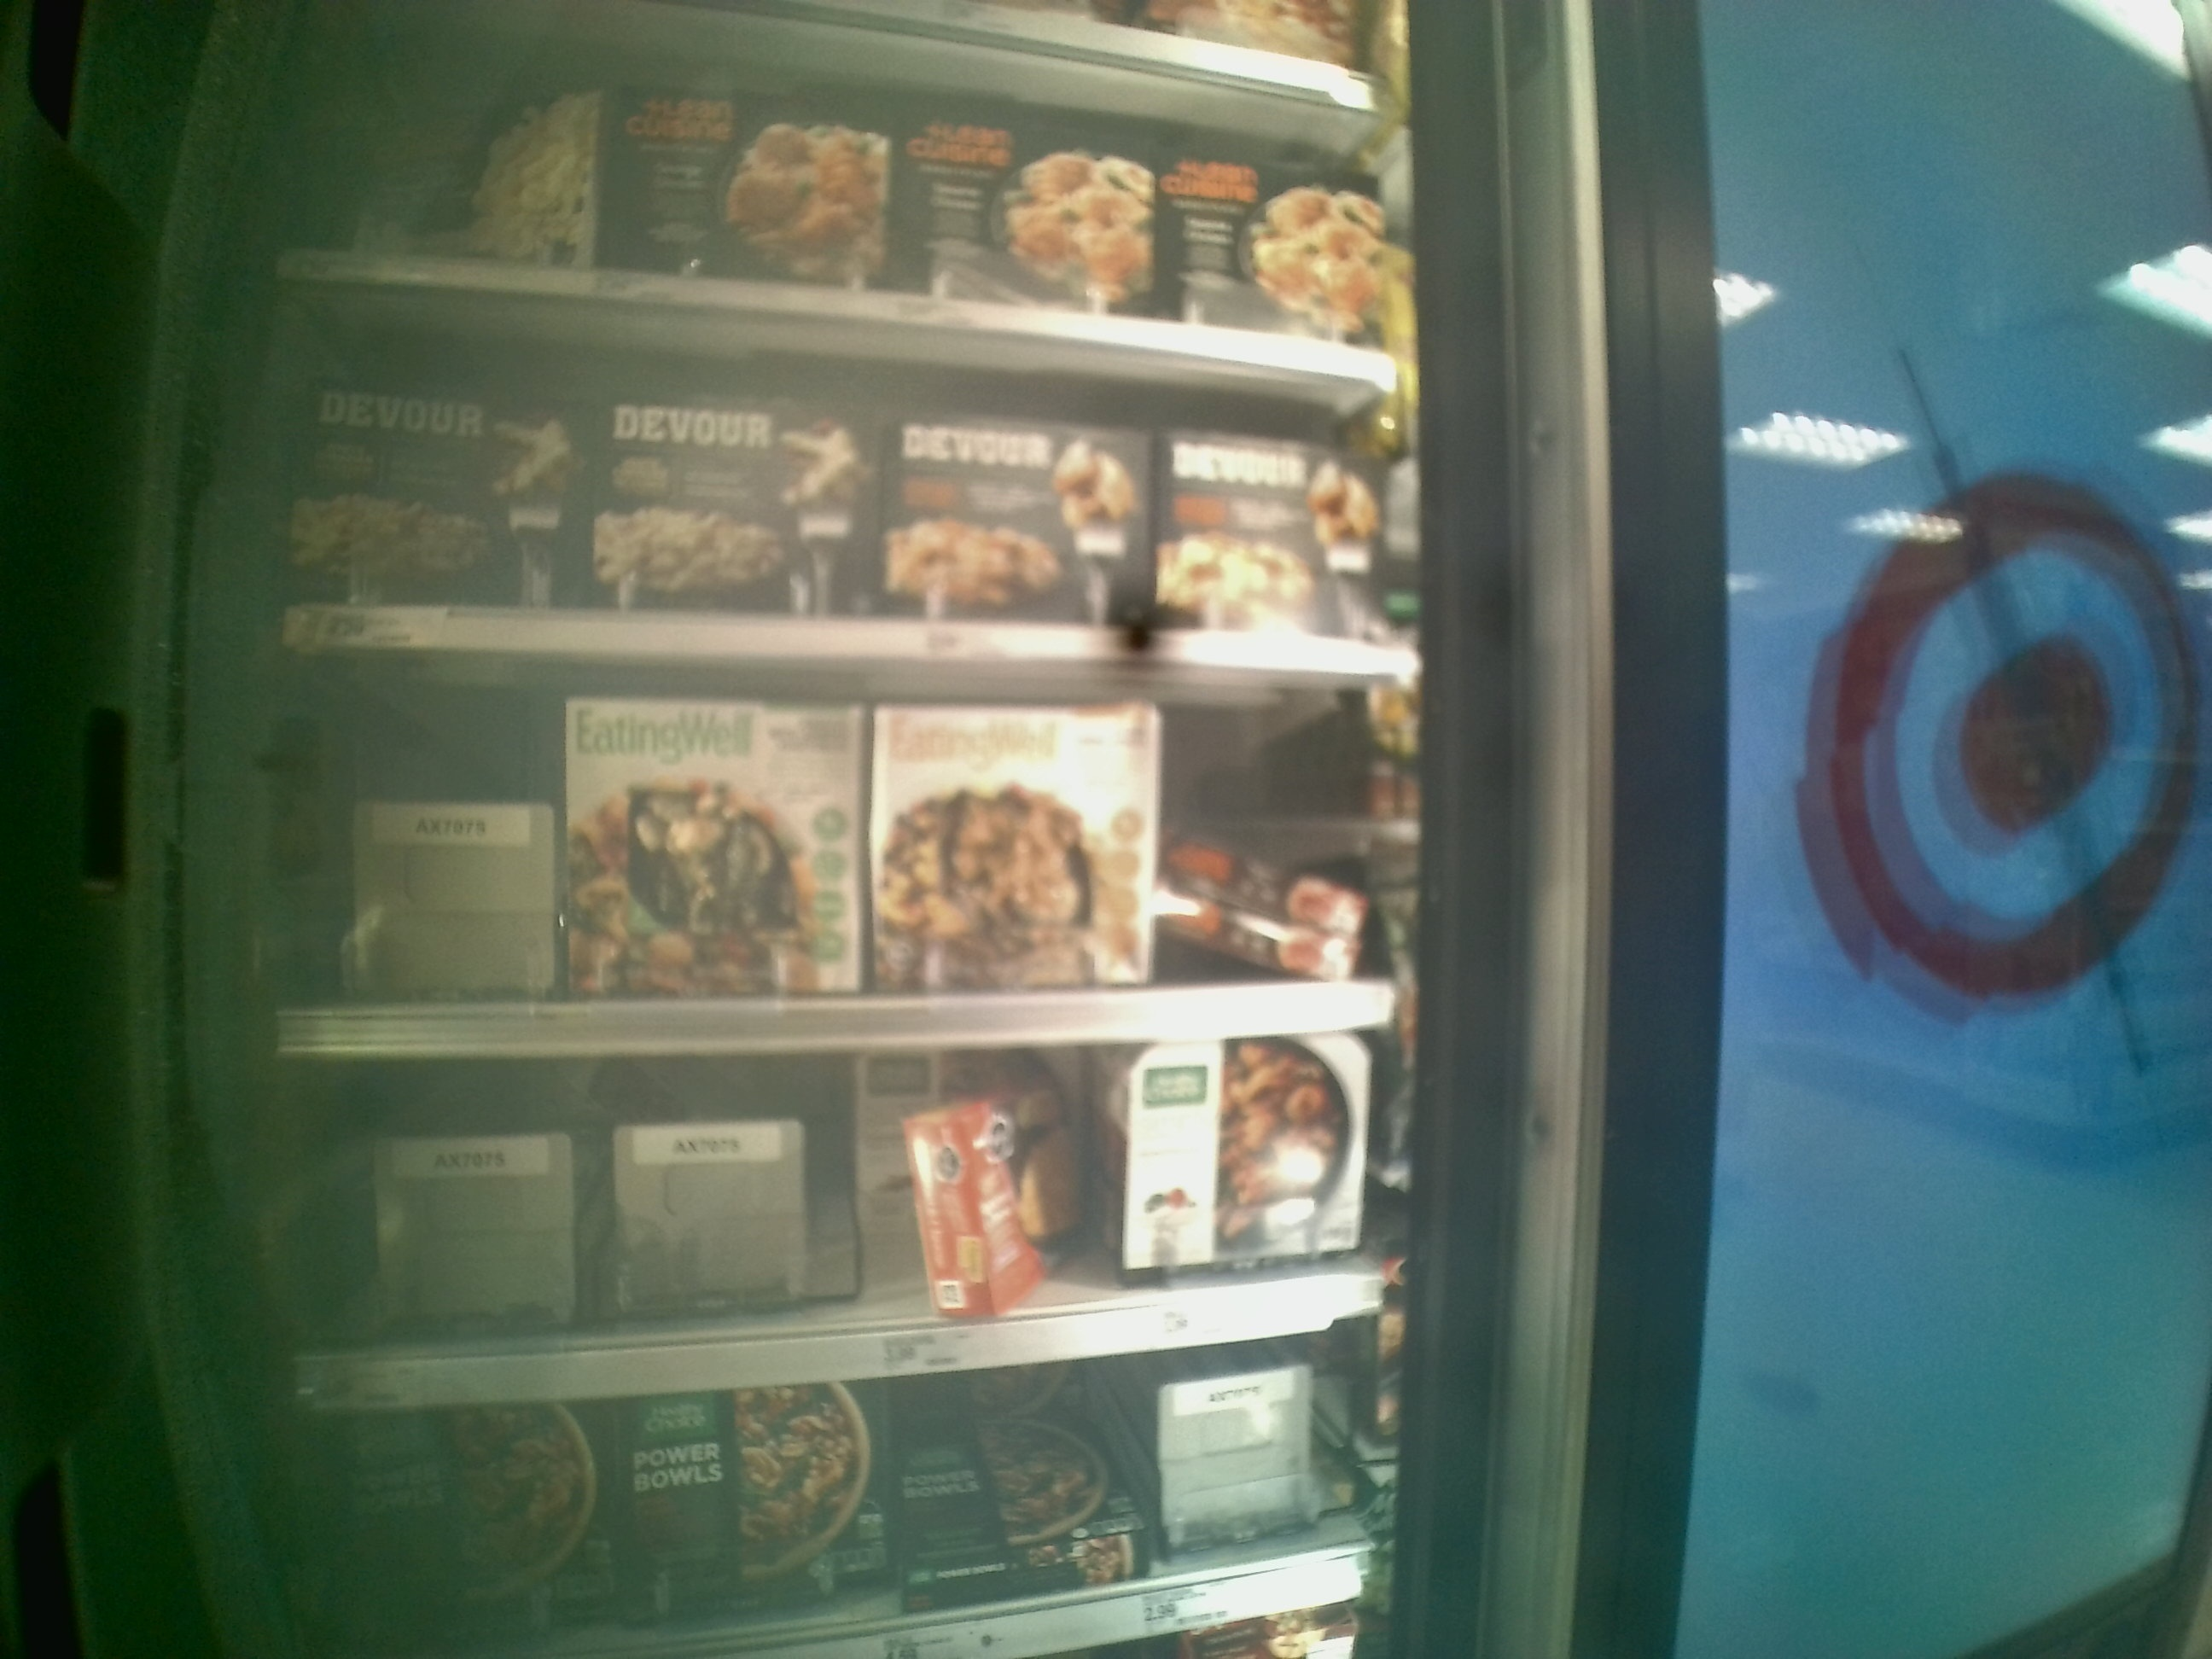shelf: (265, 652, 1428, 1053), (280, 279, 1418, 671), (265, 1025, 1416, 1401)
